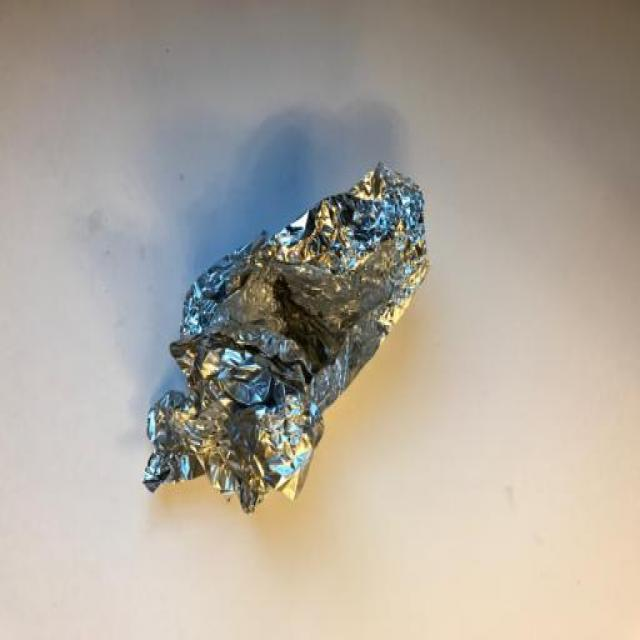plastic_bag: (114, 120, 468, 530)
